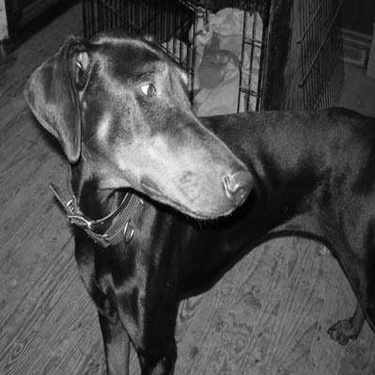dog: (20, 21, 370, 371)
